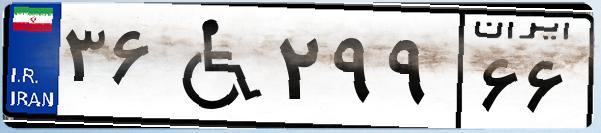2: (270, 28, 330, 110)
3: (57, 26, 110, 100)
6: (475, 38, 525, 113), (525, 38, 570, 115), (110, 28, 158, 98)
9: (385, 28, 445, 110), (330, 28, 385, 110)
ژ (معلولین و جانبازان): (158, 12, 270, 120)
